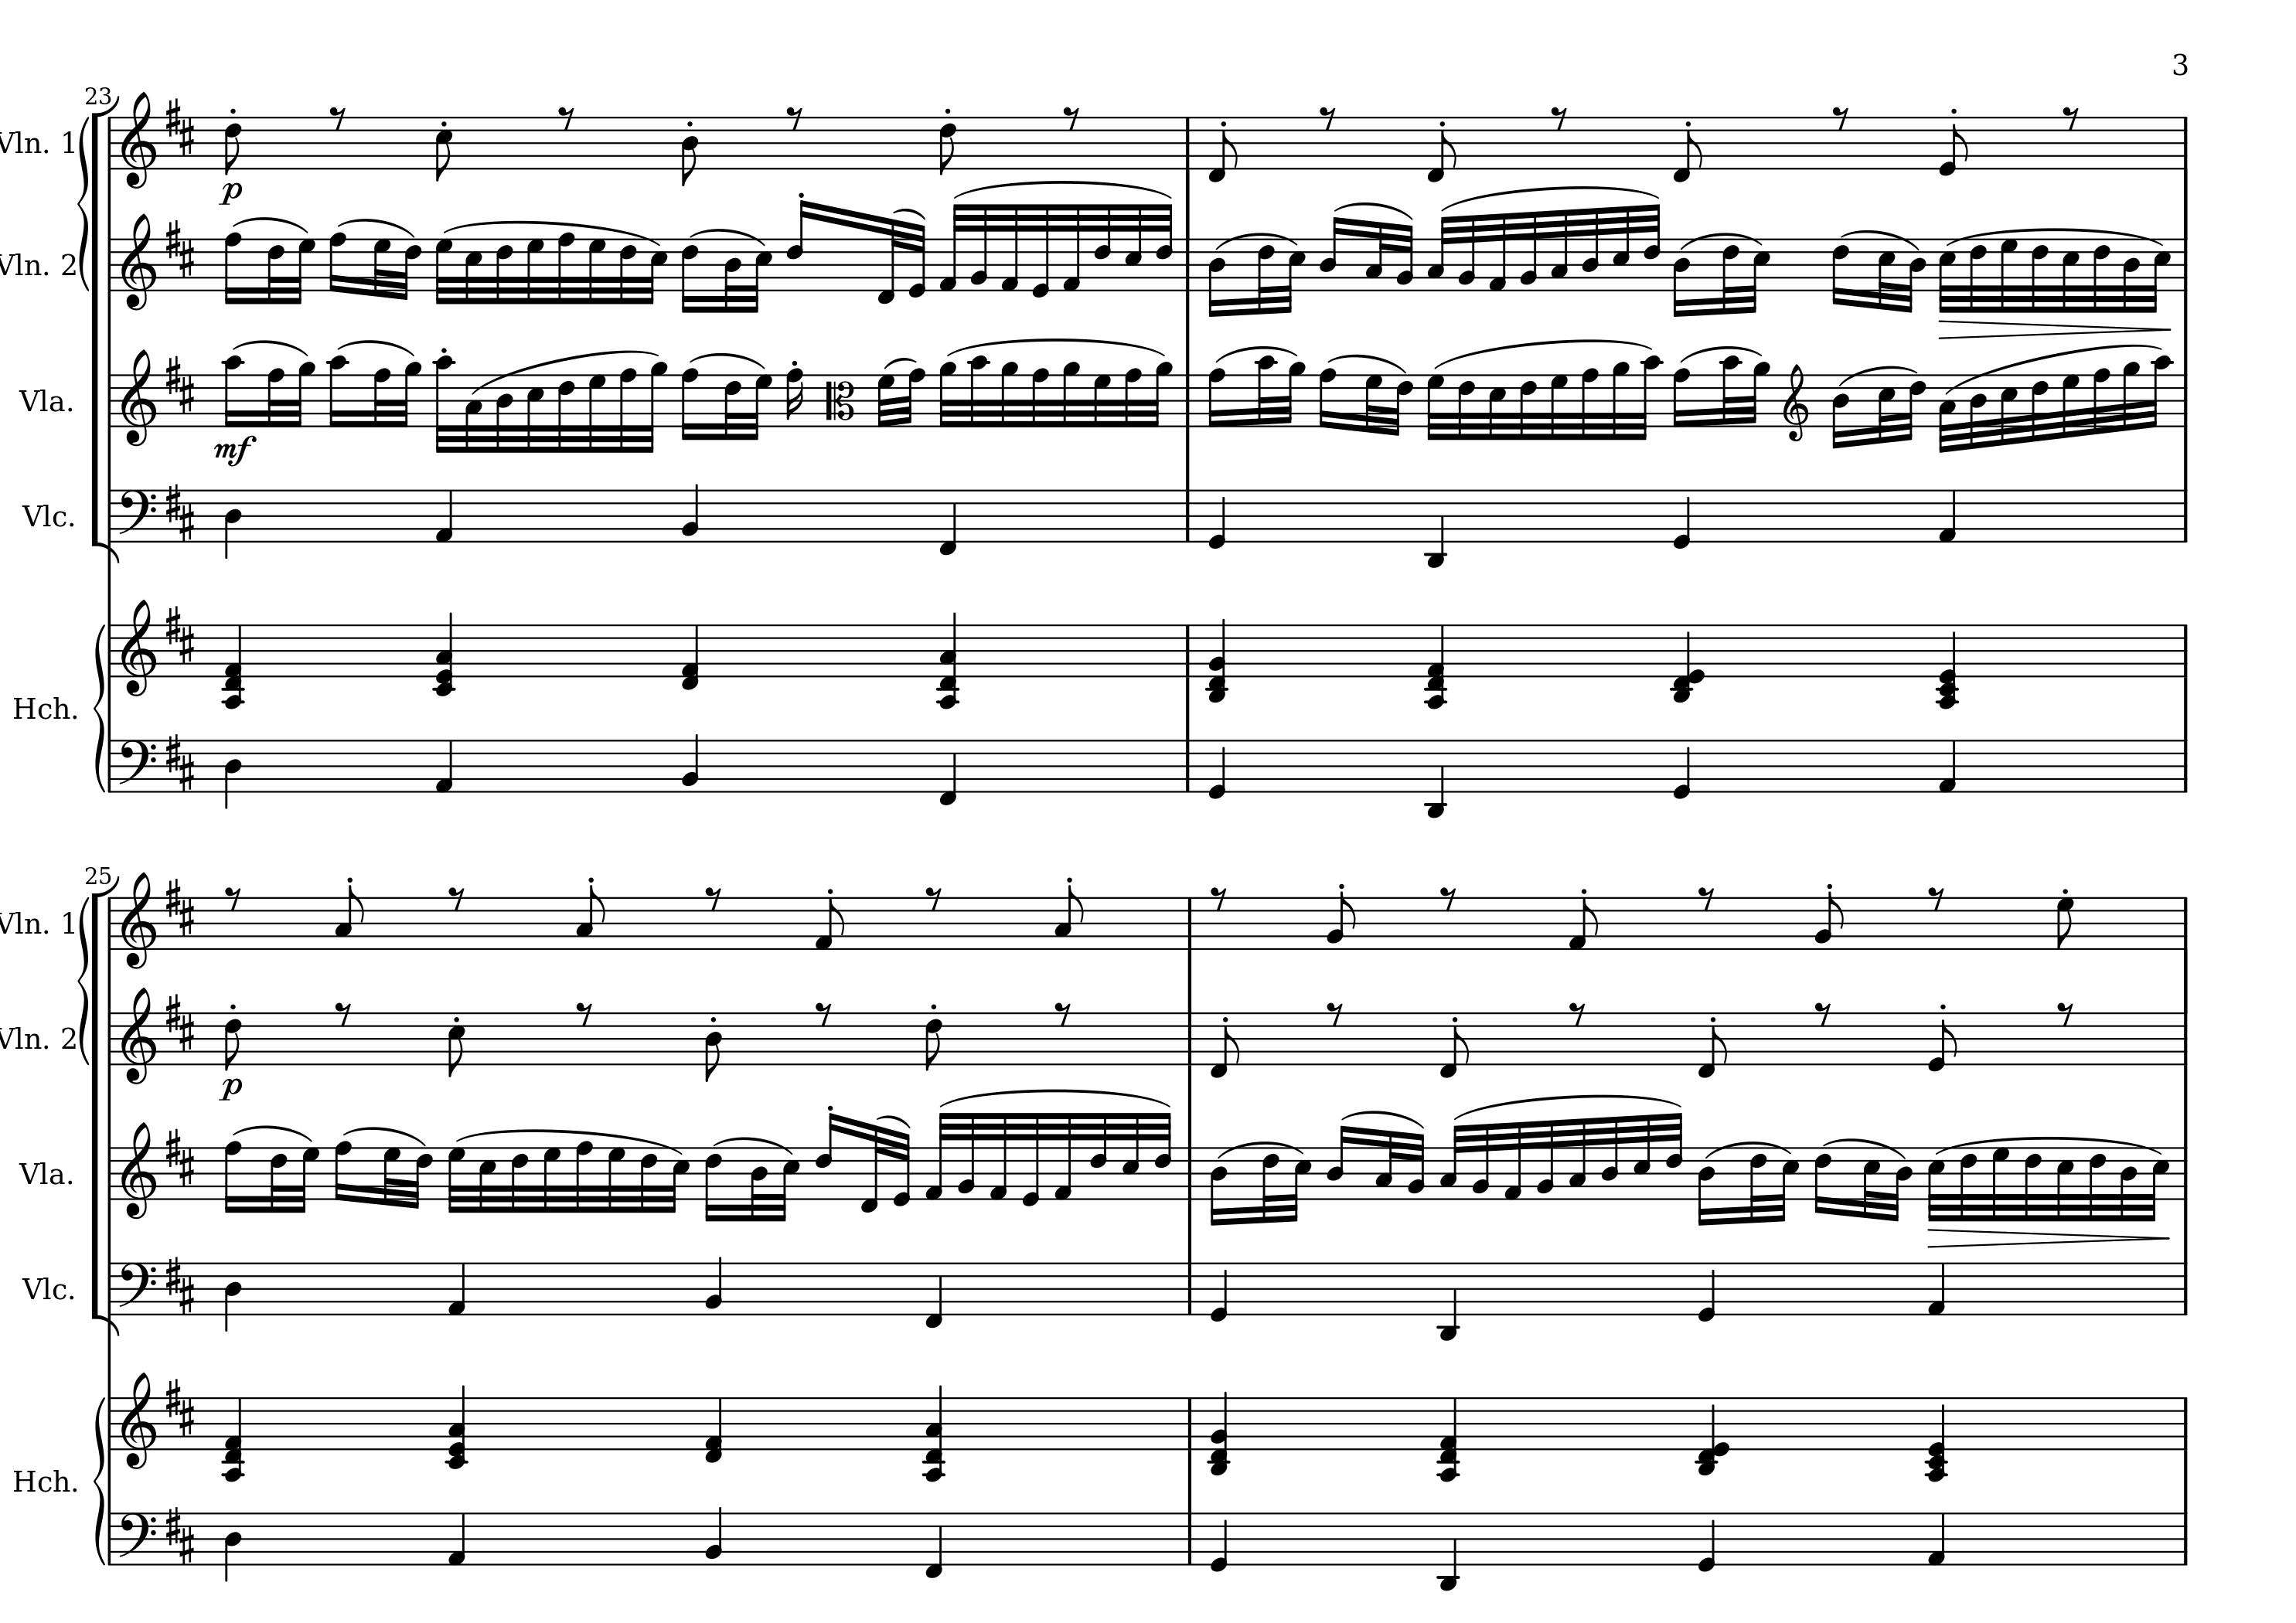16_-1: (877, 216, 899, 306)
16_10: (223, 353, 246, 429), (327, 355, 350, 427)
16_4: (1319, 214, 1344, 290), (1326, 1124, 1351, 1200), (1671, 235, 1692, 318), (1830, 372, 1852, 450), (1697, 1143, 1716, 1226), (1207, 235, 1226, 316), (1209, 1145, 1228, 1226)
16_6: (785, 197, 812, 292), (813, 1110, 840, 1200), (1093, 202, 1112, 292), (703, 1145, 724, 1223), (680, 235, 699, 313), (1830, 235, 1850, 307), (1813, 1145, 1832, 1215)
16_8: (680, 365, 699, 443), (223, 1140, 242, 1214), (223, 232, 242, 304), (329, 230, 348, 293), (1318, 367, 1337, 430), (1671, 367, 1690, 430), (334, 1140, 353, 1203), (785, 367, 805, 427), (1207, 367, 1226, 427)
2: (84, 864, 98, 884), (84, 84, 97, 104)
3: (2173, 51, 2187, 77), (98, 84, 111, 104)
32_-1: (859, 1121, 884, 1214)
32_0: (1021, 1112, 1040, 1207), (1031, 204, 1051, 297), (910, 221, 928, 302)
32_1: (922, 1112, 950, 1201), (938, 204, 963, 293), (1502, 1119, 1523, 1201), (989, 1112, 1008, 1201), (891, 1129, 912, 1207), (1063, 204, 1080, 293), (1001, 204, 1019, 292), (1054, 1114, 1072, 1201)
32_10: (432, 355, 458, 455), (1635, 353, 1664, 441), (2147, 353, 2173, 429), (968, 353, 991, 429), (1720, 353, 1743, 427), (1254, 355, 1277, 427)
32_2: (1520, 207, 1539, 290), (957, 1112, 975, 1201), (970, 204, 987, 292), (1470, 1121, 1490, 1200), (1537, 1117, 1555, 1200), (1458, 213, 1476, 292), (1395, 221, 1414, 292), (1405, 1131, 1425, 1201)
32_3: (1425, 214, 1451, 292), (1439, 1122, 1462, 1201), (1936, 372, 1957, 453), (1374, 1128, 1397, 1200), (1549, 207, 1569, 292), (1567, 1115, 1586, 1200), (464, 371, 483, 453), (1488, 211, 1507, 292), (1365, 220, 1386, 292)
32_4: (1904, 235, 1929, 313), (1890, 1145, 1915, 1223), (495, 371, 516, 453), (722, 234, 743, 314), (1600, 1114, 1620, 1201), (1967, 371, 1989, 450), (1581, 206, 1600, 290), (748, 1147, 769, 1223), (2122, 235, 2141, 314), (2119, 1145, 2138, 1223)
32_5: (1746, 237, 1773, 314), (1774, 1145, 1801, 1223), (1119, 1112, 1142, 1200), (748, 237, 775, 313), (1288, 1147, 1314, 1223), (2147, 235, 2171, 314), (2145, 1147, 2171, 1221), (1284, 237, 1309, 314), (776, 1145, 801, 1223), (1123, 202, 1144, 292), (1632, 1112, 1653, 1200), (1611, 206, 1632, 292), (666, 1145, 692, 1214), (525, 371, 546, 453), (645, 237, 669, 304), (1876, 237, 1897, 311), (2055, 1145, 2075, 1223), (1876, 374, 1897, 444), (1938, 237, 1957, 313), (2061, 237, 2080, 313), (1999, 371, 2018, 446), (1862, 1145, 1881, 1221), (1927, 1145, 1946, 1221), (464, 237, 485, 304), (1488, 372, 1509, 439), (478, 1145, 497, 1212)
32_6: (1641, 200, 1662, 292), (1664, 1110, 1685, 1200), (1154, 200, 1173, 292), (1089, 1110, 1108, 1200), (1388, 372, 1414, 437), (399, 235, 423, 302), (1903, 374, 1927, 441), (2087, 1145, 2108, 1223), (618, 235, 641, 306), (557, 371, 576, 453), (409, 1145, 434, 1208), (1154, 1112, 1172, 1200), (1722, 237, 1741, 316), (1261, 1145, 1281, 1224), (1967, 237, 1987, 314), (2031, 237, 2050, 314), (2092, 237, 2112, 314), (2024, 1145, 2043, 1223), (509, 1143, 531, 1214), (495, 235, 516, 304), (1518, 371, 1539, 439), (639, 1145, 661, 1214), (2031, 371, 2050, 443), (1750, 1145, 1767, 1224), (1258, 237, 1275, 314), (1960, 1145, 1978, 1223), (724, 371, 743, 439), (1458, 371, 1477, 439), (269, 1143, 288, 1212), (267, 237, 285, 306)
32_7: (290, 235, 316, 304), (748, 372, 775, 441), (587, 372, 608, 453), (295, 1145, 320, 1212), (587, 235, 610, 304), (1999, 235, 2018, 313), (1992, 1145, 2011, 1223), (1548, 371, 1569, 441), (525, 235, 546, 304), (446, 1145, 467, 1214), (606, 1145, 627, 1214), (434, 237, 455, 304), (1425, 372, 1446, 439), (543, 1143, 562, 1214), (1363, 372, 1384, 434), (381, 1145, 402, 1207), (2061, 372, 2080, 439), (372, 235, 392, 297), (1091, 372, 1112, 427), (877, 372, 896, 427)
32_8: (618, 367, 638, 455), (901, 367, 926, 429), (1579, 365, 1599, 441), (557, 230, 576, 304), (574, 1140, 594, 1214), (372, 365, 393, 429), (1031, 365, 1051, 429), (2092, 367, 2110, 436), (267, 367, 286, 429), (1123, 367, 1142, 429)
32_9: (645, 360, 669, 455), (399, 360, 423, 429), (1149, 360, 1173, 429), (292, 360, 316, 427), (1282, 360, 1307, 427), (1611, 360, 1630, 441), (1748, 360, 1771, 427), (1061, 360, 1082, 429), (1000, 360, 1019, 429), (938, 360, 957, 427), (2122, 360, 2140, 432)
4_-1: (938, 736, 959, 804), (924, 1509, 945, 1577), (938, 487, 957, 555), (924, 1259, 943, 1328)
4_-1_1: (680, 622, 703, 692)
4_-3: (1425, 736, 1448, 819), (1425, 487, 1446, 567), (1439, 1509, 1458, 1591), (1439, 1259, 1458, 1340)
4_0: (1697, 1509, 1718, 1572), (1209, 1261, 1230, 1323), (1672, 487, 1692, 550), (1209, 736, 1228, 799), (1210, 1509, 1230, 1572), (1209, 487, 1228, 548), (1672, 738, 1692, 799), (1697, 1261, 1716, 1323)
4_0_2: (703, 1396, 726, 1463)
4_1: (434, 738, 455, 794), (446, 1511, 467, 1567), (434, 488, 455, 543), (1927, 1261, 1946, 1317), (1927, 1511, 1946, 1567), (1938, 488, 1957, 543), (1938, 738, 1957, 792), (448, 1261, 467, 1316)
4_2: (682, 481, 701, 543), (682, 731, 701, 792), (704, 1254, 724, 1316), (706, 1504, 726, 1565)
4_4: (223, 487, 242, 559), (223, 738, 242, 810), (223, 1261, 242, 1331), (223, 1511, 242, 1581)
4_th: (1671, 624, 1706, 703), (935, 611, 961, 710), (922, 1384, 947, 1482), (220, 624, 246, 710), (1934, 625, 1960, 710), (221, 1395, 246, 1482), (444, 1384, 469, 1470), (432, 611, 457, 696), (1205, 618, 1230, 703), (1207, 1391, 1231, 1475), (1437, 1396, 1460, 1482), (1425, 624, 1448, 708), (1925, 1398, 1948, 1482)
5: (98, 862, 112, 884)
8_-1: (1439, 1012, 1470, 1078), (1697, 1010, 1729, 1077), (1209, 1012, 1240, 1077), (1207, 116, 1237, 183), (1426, 116, 1456, 183), (1672, 116, 1702, 181)
8_0: (1938, 114, 1967, 176), (1927, 1012, 1957, 1071)
8_1: (813, 894, 845, 950), (1567, 896, 1599, 950)
8_2: (1815, 889, 1845, 950), (1326, 889, 1354, 950)
8_3: (334, 884, 365, 950), (574, 884, 606, 950), (1054, 884, 1084, 950)
8_4: (680, 114, 699, 186), (703, 1012, 722, 1082)
8_5: (446, 1010, 466, 1077), (434, 116, 453, 181)
8_6: (223, 114, 242, 176), (938, 114, 957, 176), (223, 1010, 242, 1071), (924, 1010, 943, 1071)
8_7: (2055, 896, 2076, 950)
Brace: (91, 1391, 105, 1567), (76, 114, 90, 288), (91, 620, 105, 794), (76, 896, 90, 1061)
Bracke: (88, 95, 123, 560), (91, 876, 118, 1335)
Cclef: (824, 374, 856, 427)
D_S: (163, 604, 195, 664), (163, 731, 195, 790), (163, 991, 195, 1050), (163, 1254, 195, 1314), (163, 1377, 195, 1437), (163, 1504, 195, 1563), (163, 97, 195, 155), (163, 876, 195, 934), (165, 218, 195, 278), (165, 353, 195, 413), (165, 1126, 195, 1186), (165, 481, 195, 539)
Diminuendo_hairpin: (1925, 1228, 2171, 1251)
Fclef: (118, 487, 156, 543), (118, 738, 156, 792), (118, 1261, 156, 1316), (118, 1511, 156, 1565)
Gclef: (119, 985, 158, 1086), (119, 90, 156, 190), (119, 348, 156, 448), (119, 597, 156, 697), (119, 869, 156, 970), (119, 213, 156, 311), (119, 1121, 156, 1219), (119, 1370, 156, 1468), (1781, 362, 1809, 443)
Hch: (9, 696, 70, 724), (12, 1468, 69, 1495)
Rests8: (785, 104, 805, 130), (1061, 104, 1080, 130), (1318, 104, 1337, 130), (1549, 104, 1569, 130), (1830, 104, 1850, 130), (223, 884, 242, 910), (446, 884, 466, 910), (703, 884, 722, 910), (924, 884, 943, 910), (1439, 884, 1458, 910), (1697, 884, 1716, 910), (1927, 884, 1946, 910), (334, 999, 353, 1026), (574, 999, 594, 1026), (813, 999, 833, 1026), (1052, 999, 1072, 1026), (1567, 999, 1586, 1026), (1813, 999, 1832, 1026), (557, 104, 574, 130), (2062, 104, 2080, 130), (1210, 884, 1228, 910), (1326, 999, 1344, 1026), (2057, 999, 2075, 1026), (329, 104, 346, 128)
Single_barline: (2177, 237, 2192, 290), (2177, 739, 2192, 792), (1180, 896, 1196, 949), (2177, 116, 2192, 167), (2177, 490, 2192, 541), (1180, 739, 1196, 790), (1182, 1012, 1198, 1063), (2177, 1012, 2192, 1063), (1182, 1147, 1198, 1198), (2177, 1263, 2192, 1314), (1182, 1512, 1198, 1563), (2177, 1512, 2192, 1563), (1180, 237, 1195, 290), (2178, 624, 2192, 676), (2178, 896, 2192, 949), (2178, 1396, 2192, 1449), (1180, 116, 1195, 167), (1180, 374, 1195, 425), (2178, 374, 2192, 425), (104, 490, 118, 541), (1180, 490, 1195, 541), (1180, 625, 1195, 676), (2178, 1147, 2192, 1198), (1182, 1263, 1196, 1314), (1182, 1398, 1196, 1447), (104, 116, 116, 169), (104, 896, 116, 949), (104, 1261, 116, 1314), (104, 239, 116, 290), (104, 374, 116, 425), (105, 739, 118, 790), (104, 1012, 116, 1063), (104, 1147, 116, 1198), (105, 1512, 118, 1563), (105, 624, 116, 676), (105, 1396, 116, 1449)
Slur: (1945, 344, 2162, 397), (471, 348, 657, 393), (1428, 339, 1653, 374), (458, 1128, 680, 1159), (441, 220, 661, 246), (1946, 227, 2159, 251), (1456, 1093, 1681, 1115), (1442, 186, 1658, 209), (949, 337, 1166, 358), (942, 1089, 1172, 1107), (1934, 1136, 2159, 1154), (954, 181, 1172, 198), (341, 1124, 427, 1147), (1822, 1136, 1906, 1159), (1839, 228, 1920, 249), (1838, 364, 1918, 385), (336, 216, 415, 237), (1340, 1108, 1425, 1128), (711, 1135, 794, 1154), (1216, 1140, 1305, 1158), (1704, 1140, 1794, 1158), (336, 337, 416, 357), (1326, 353, 1407, 372), (1333, 200, 1412, 220), (230, 1124, 314, 1142), (1212, 232, 1300, 248), (1212, 344, 1300, 360), (1678, 232, 1764, 248), (232, 339, 309, 357), (687, 228, 766, 244), (687, 351, 766, 367), (1678, 346, 1765, 360), (232, 216, 309, 232), (892, 206, 926, 220), (877, 1114, 910, 1128), (884, 355, 915, 367)
Vla: (19, 385, 67, 418)
Vlc: (21, 499, 69, 532), (21, 1272, 67, 1303)
Vln: (19, 1158, 65, 1189), (0, 126, 42, 158), (0, 248, 42, 279), (0, 1022, 42, 1052), (0, 908, 40, 936)
mf: (213, 434, 256, 465)
p: (218, 1075, 244, 1101), (218, 181, 244, 206)
